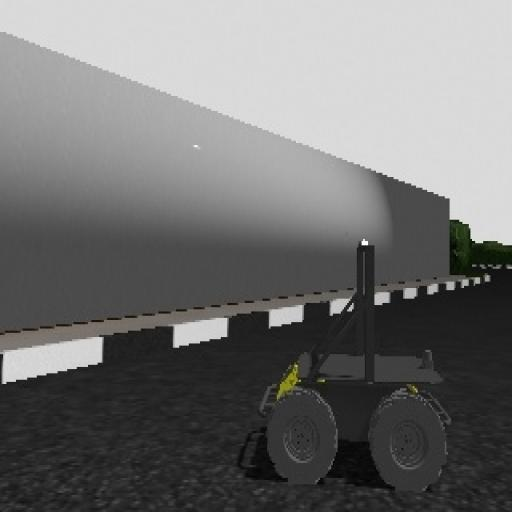huskya200: (219, 224, 456, 512)
